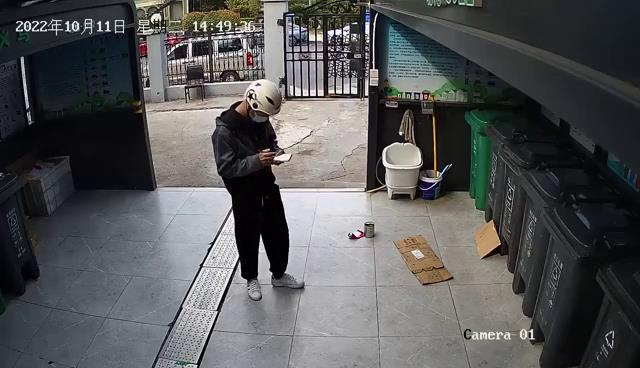lvzhipin: (361, 220, 378, 241), (347, 225, 364, 240)
person: (208, 77, 307, 303)
zhizhipin: (391, 232, 457, 289), (472, 216, 503, 263)
